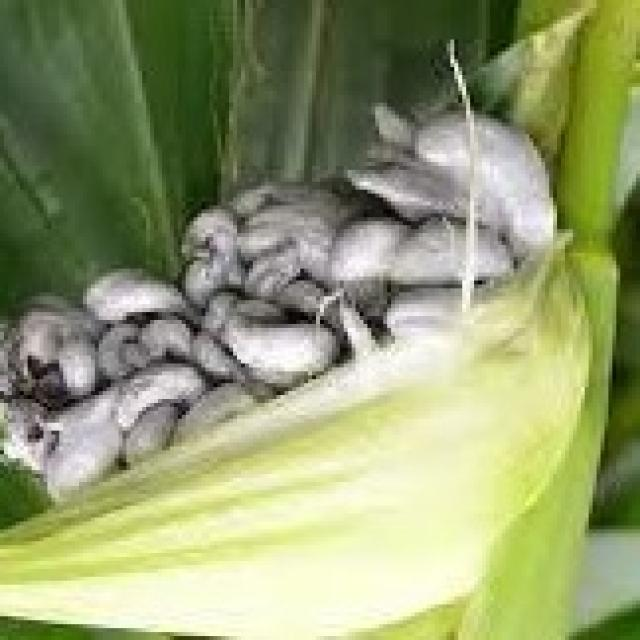Leaf_Scald: (2, 61, 636, 640)
